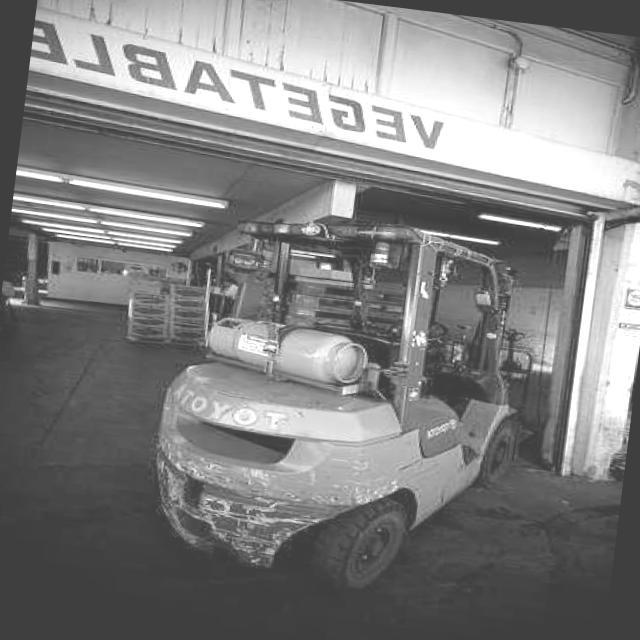forklift: (124, 193, 548, 614)
